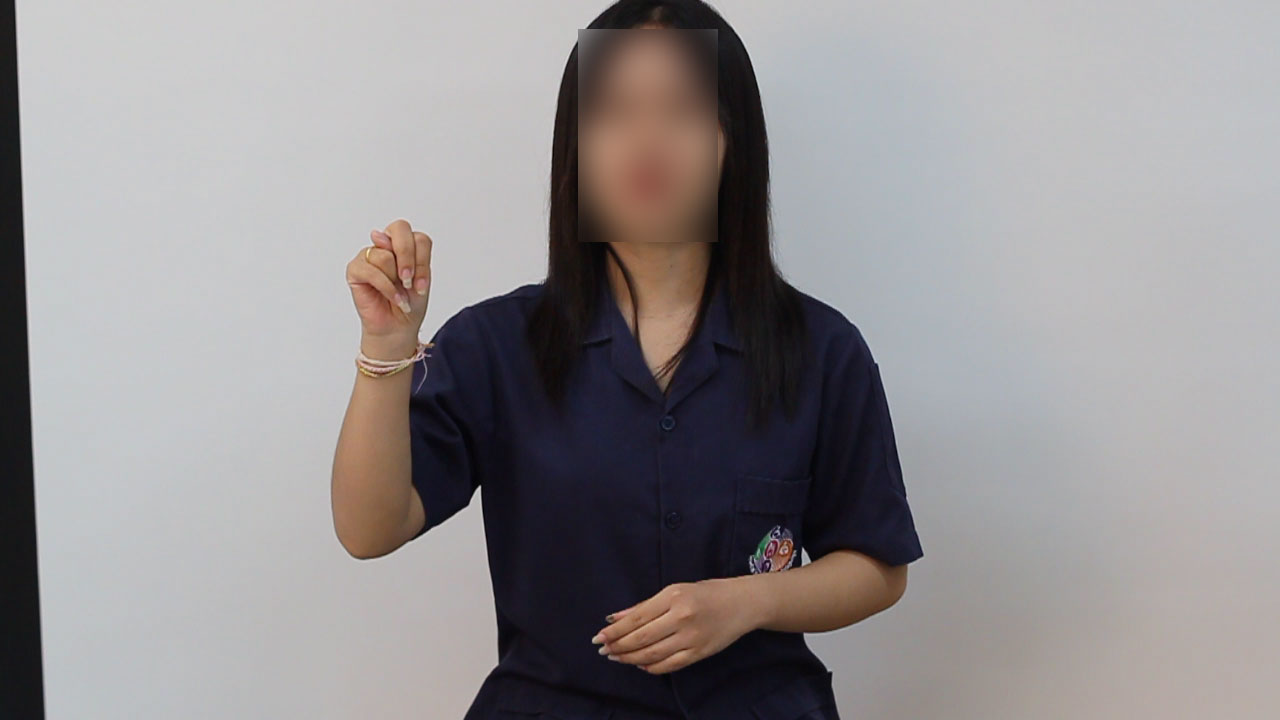nor: (341, 207, 445, 349)
